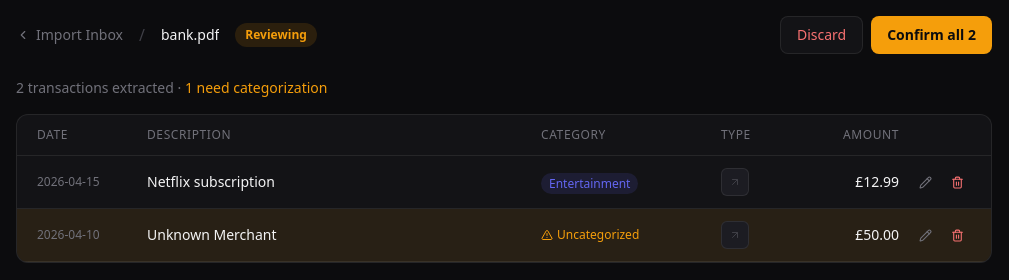
Test: BatchReviewClient › deleteItem › removes item after confirm dialog is accepted
The image size is (1009, 280).
Click the button named "Delete transaction" next to "12.99" at (957, 182), box [943,168,971,196]
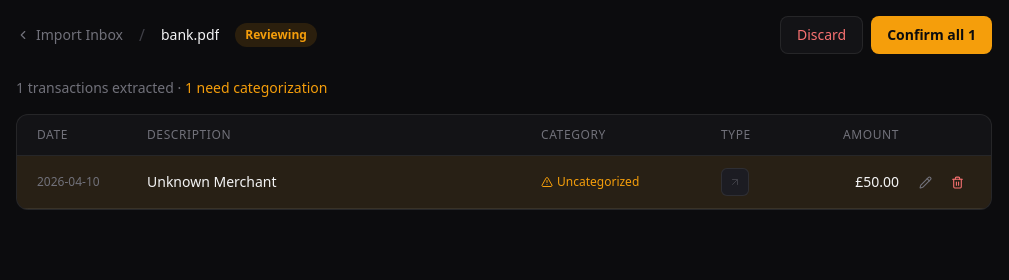
Check: the text "Netflix subscription" is gone
